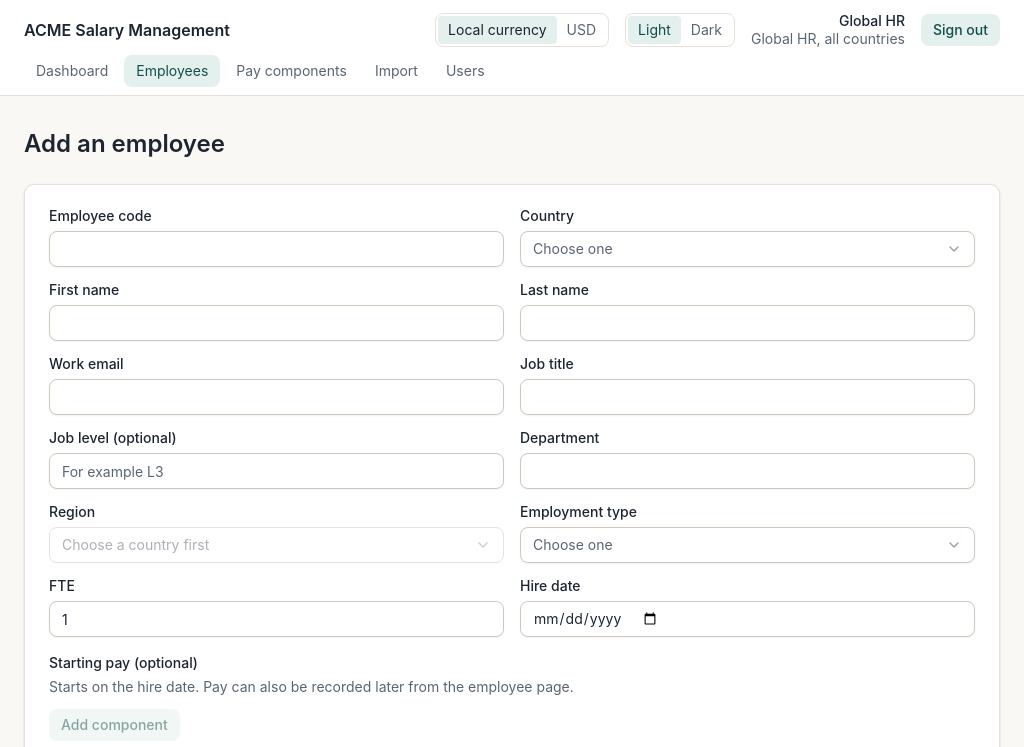
Test case: adding an employee › shows the fields of each country
The image size is (1024, 747).
expect the heading "Add an employee" is shown: met, box [24,129,225,158]
What coordinates should you click on to do the following:
click the dropdown named "Country"
I would click on:
 (573, 248)
Its box is [520,231,975,267].
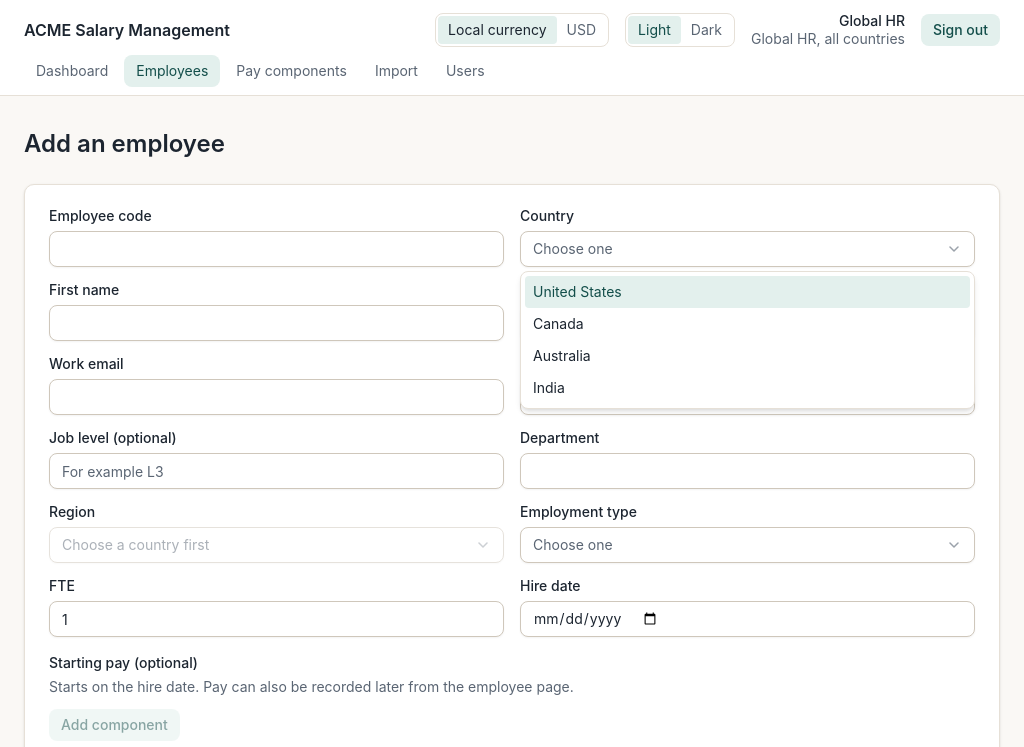
What coordinates should you click on to do the following:
click the option "India"
I would click on:
 (549, 388)
Its box is [533,379,565,396].
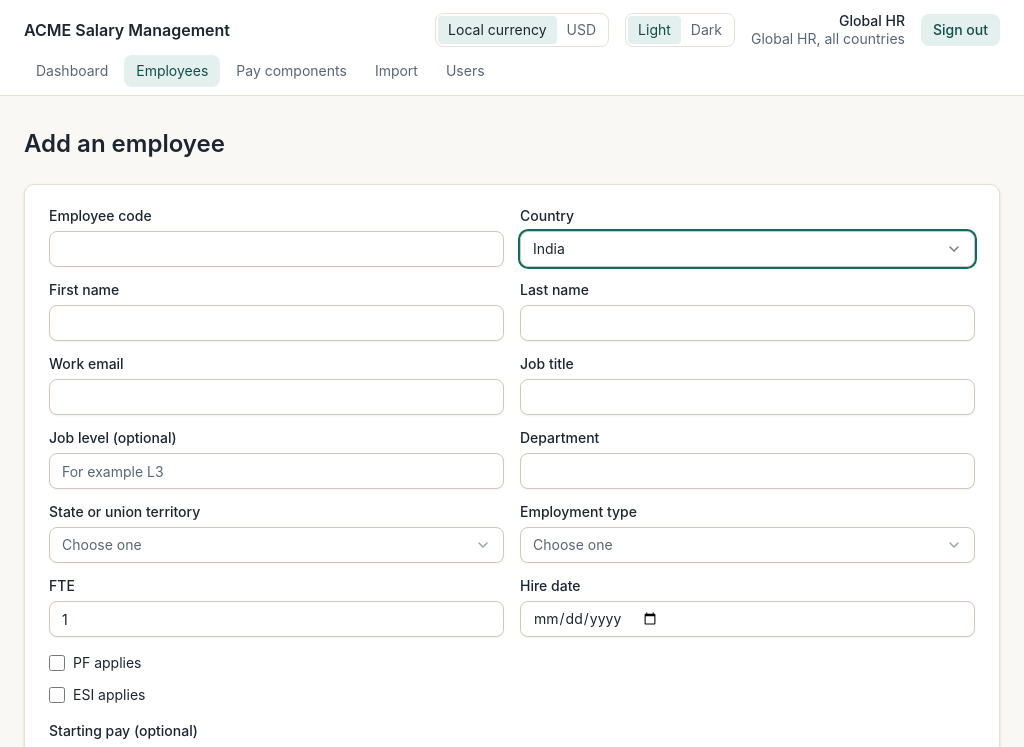
expect the dropdown named "State or union territory" is shown: met, box [49,527,504,563]
expect the checkbox labelled "PF applies" is shown: met, box [49,655,65,671]
expect the checkbox labelled "ESI applies" is shown: met, box [49,687,65,703]
What coordinates should you click on to do the following:
click the dropdown named "Country"
I would click on:
 (549, 248)
Its box is [520,231,975,267].
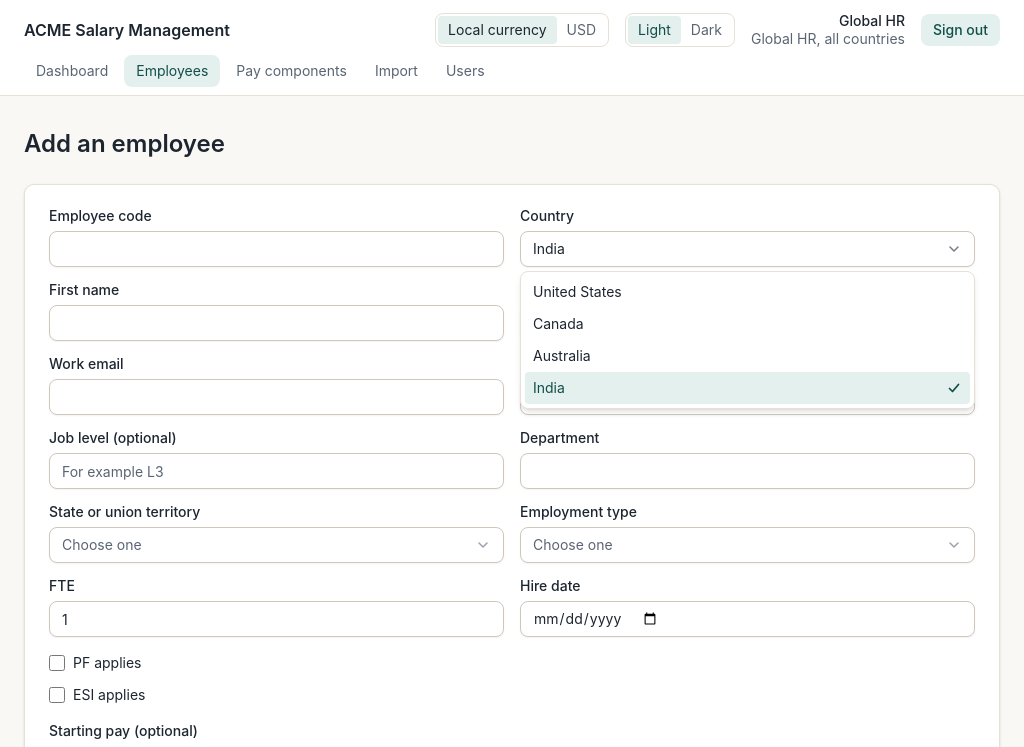
What coordinates should you click on to do the following:
click the option "Australia"
I would click on:
 (562, 356)
Its box is [533,347,591,364].
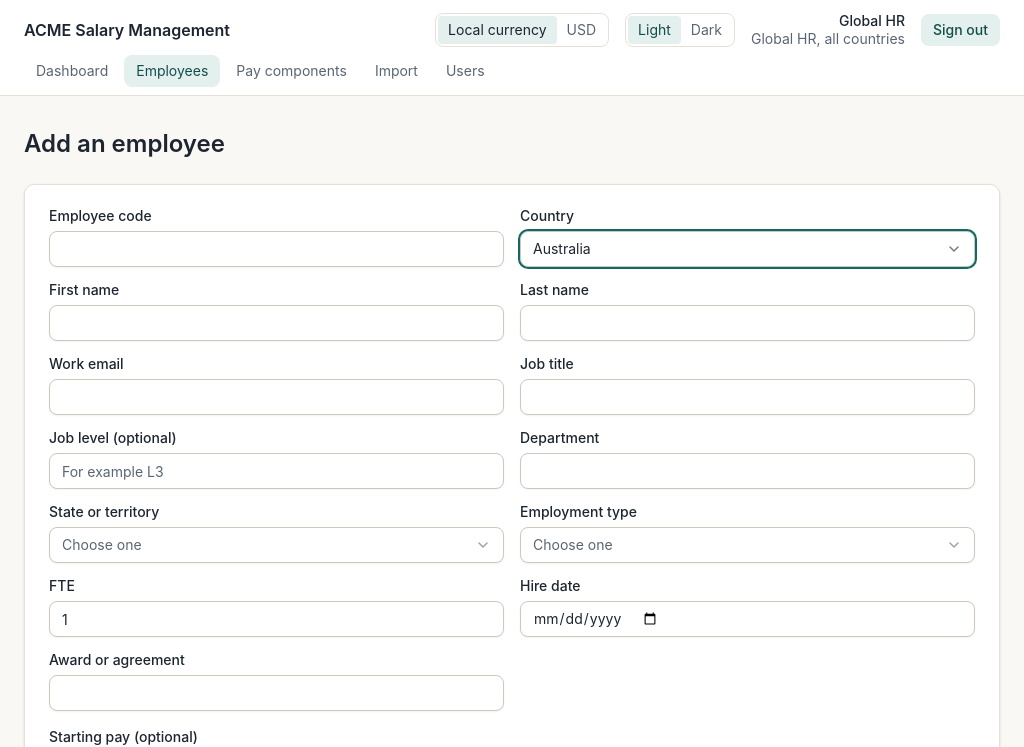
expect the field labelled "Award or agreement" is shown: met, box [49,675,504,711]
expect the label "PF applies" is gone: met
What coordinates should you click on to do the following:
click the dropdown named "Country"
I would click on:
 (562, 248)
Its box is [520,231,975,267].
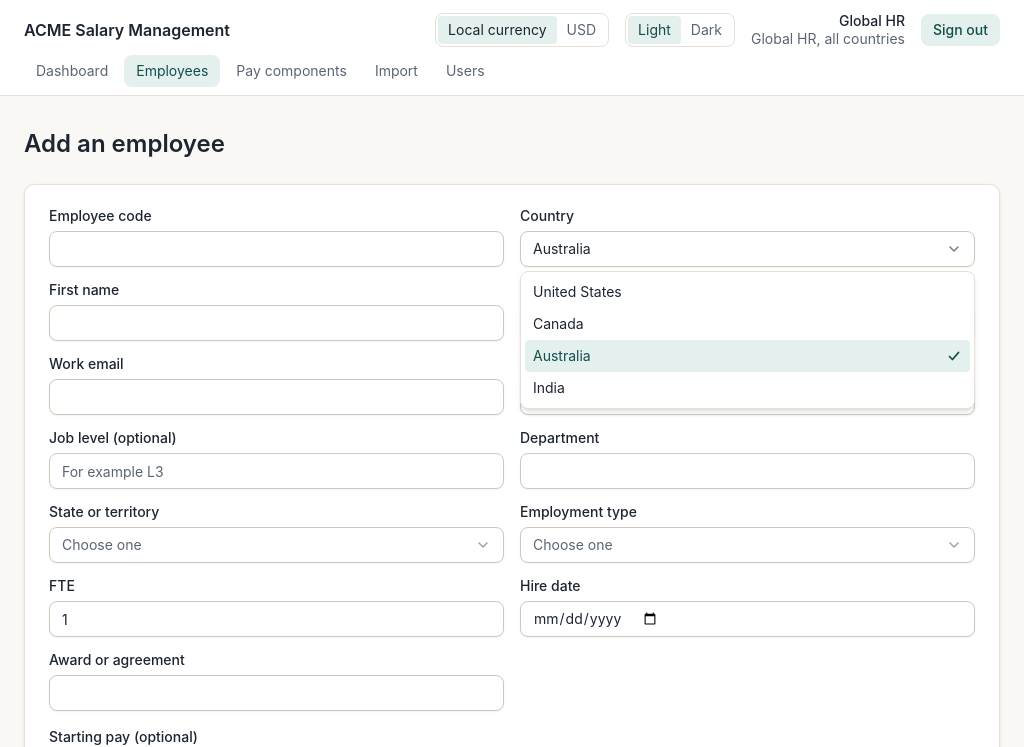
What coordinates should you click on to do the following:
click the option "Canada"
I would click on:
 (558, 324)
Its box is [533,315,584,332].
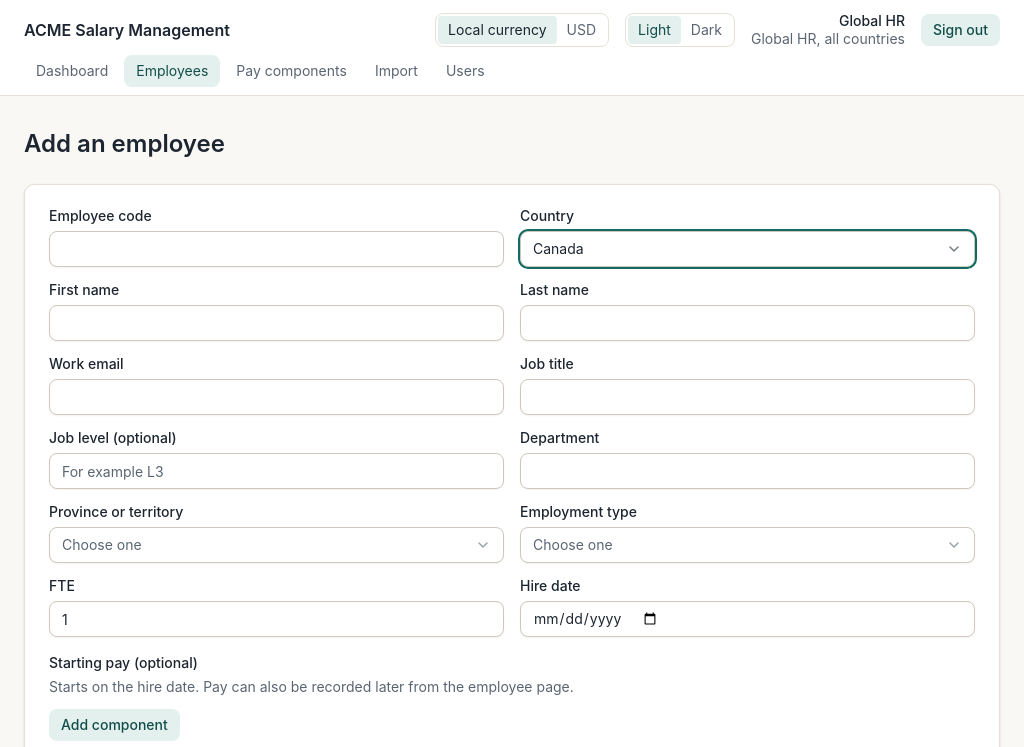
expect the dropdown named "Province or territory" is shown: met, box [49,527,504,563]
expect the label labelled "Award or agreement" is gone: met
